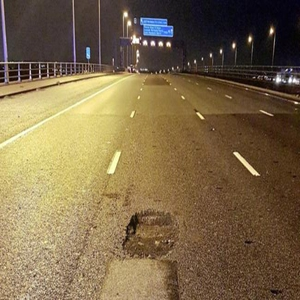pothole: (120, 207, 182, 262)
